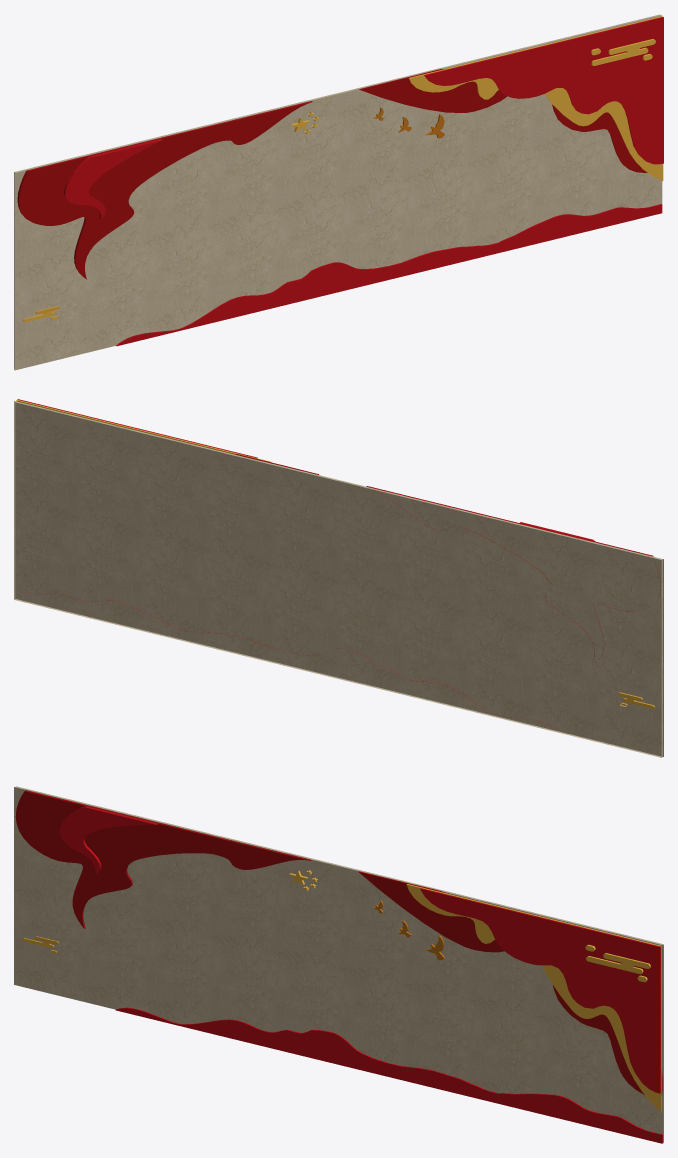
File: Wall_1.fbx
3 renders of one model, top to bottom at view 1: azimuth 30°, elevation 25°; view 2: azimuth 150°, elevation 25°; view 3: azimuth 330°, elevation 25°, orthographic.
Visible parts, largest first — view 1: Wall_1; view 2: Wall_1; view 3: Wall_1.
Part boxes in pixels (<box>): Wall_1: <box>14,14,663,370</box>; Wall_1: <box>14,399,663,757</box>; Wall_1: <box>14,786,663,1143</box>.
Size of the model in its own units: 12.14 by 3.54 by 0.1669.
